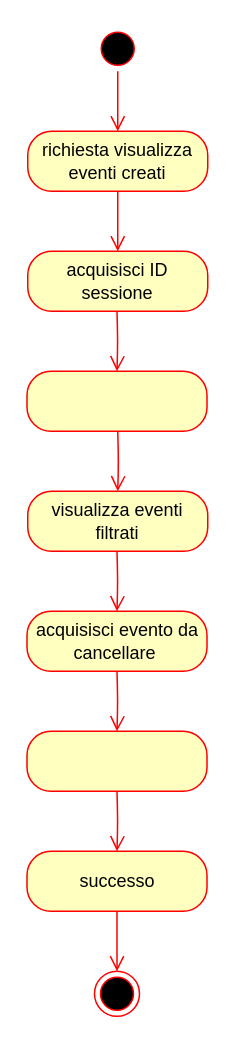
Some shapes in this 234 by 1043 pixel diagram are drawn without their labels. The shapes that lost their labels are listed below. From the top down, each one's centre as x and y in pixels, then its label:
pixel 116 400: filtra eventi tramite ID
pixel 116 760: cancella evento
